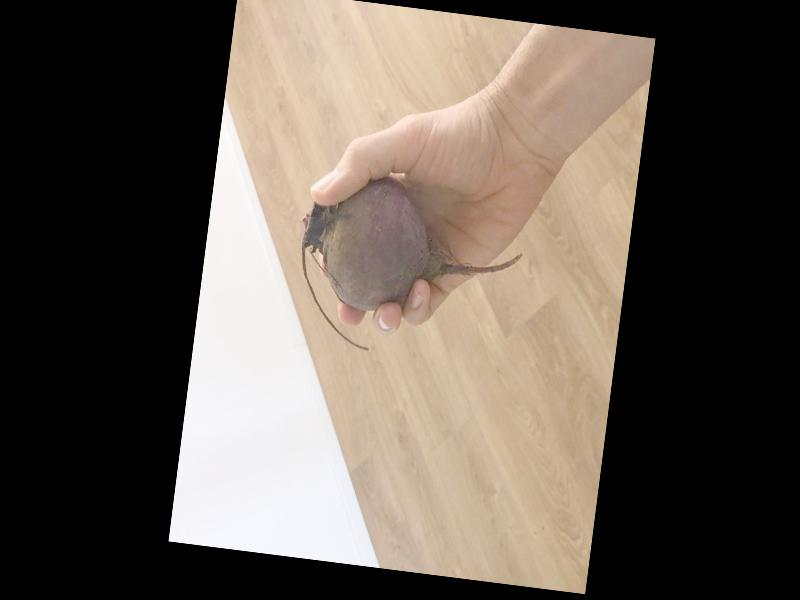Beet: (285, 167, 528, 370)
